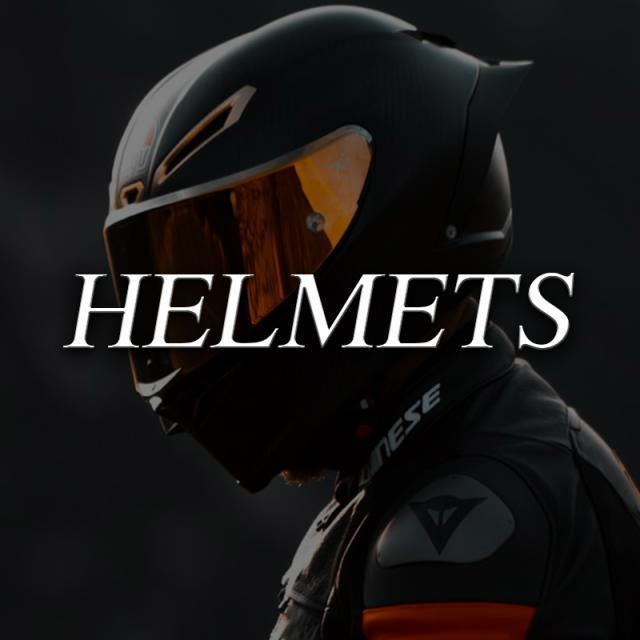helmet: (28, 2, 640, 505)
